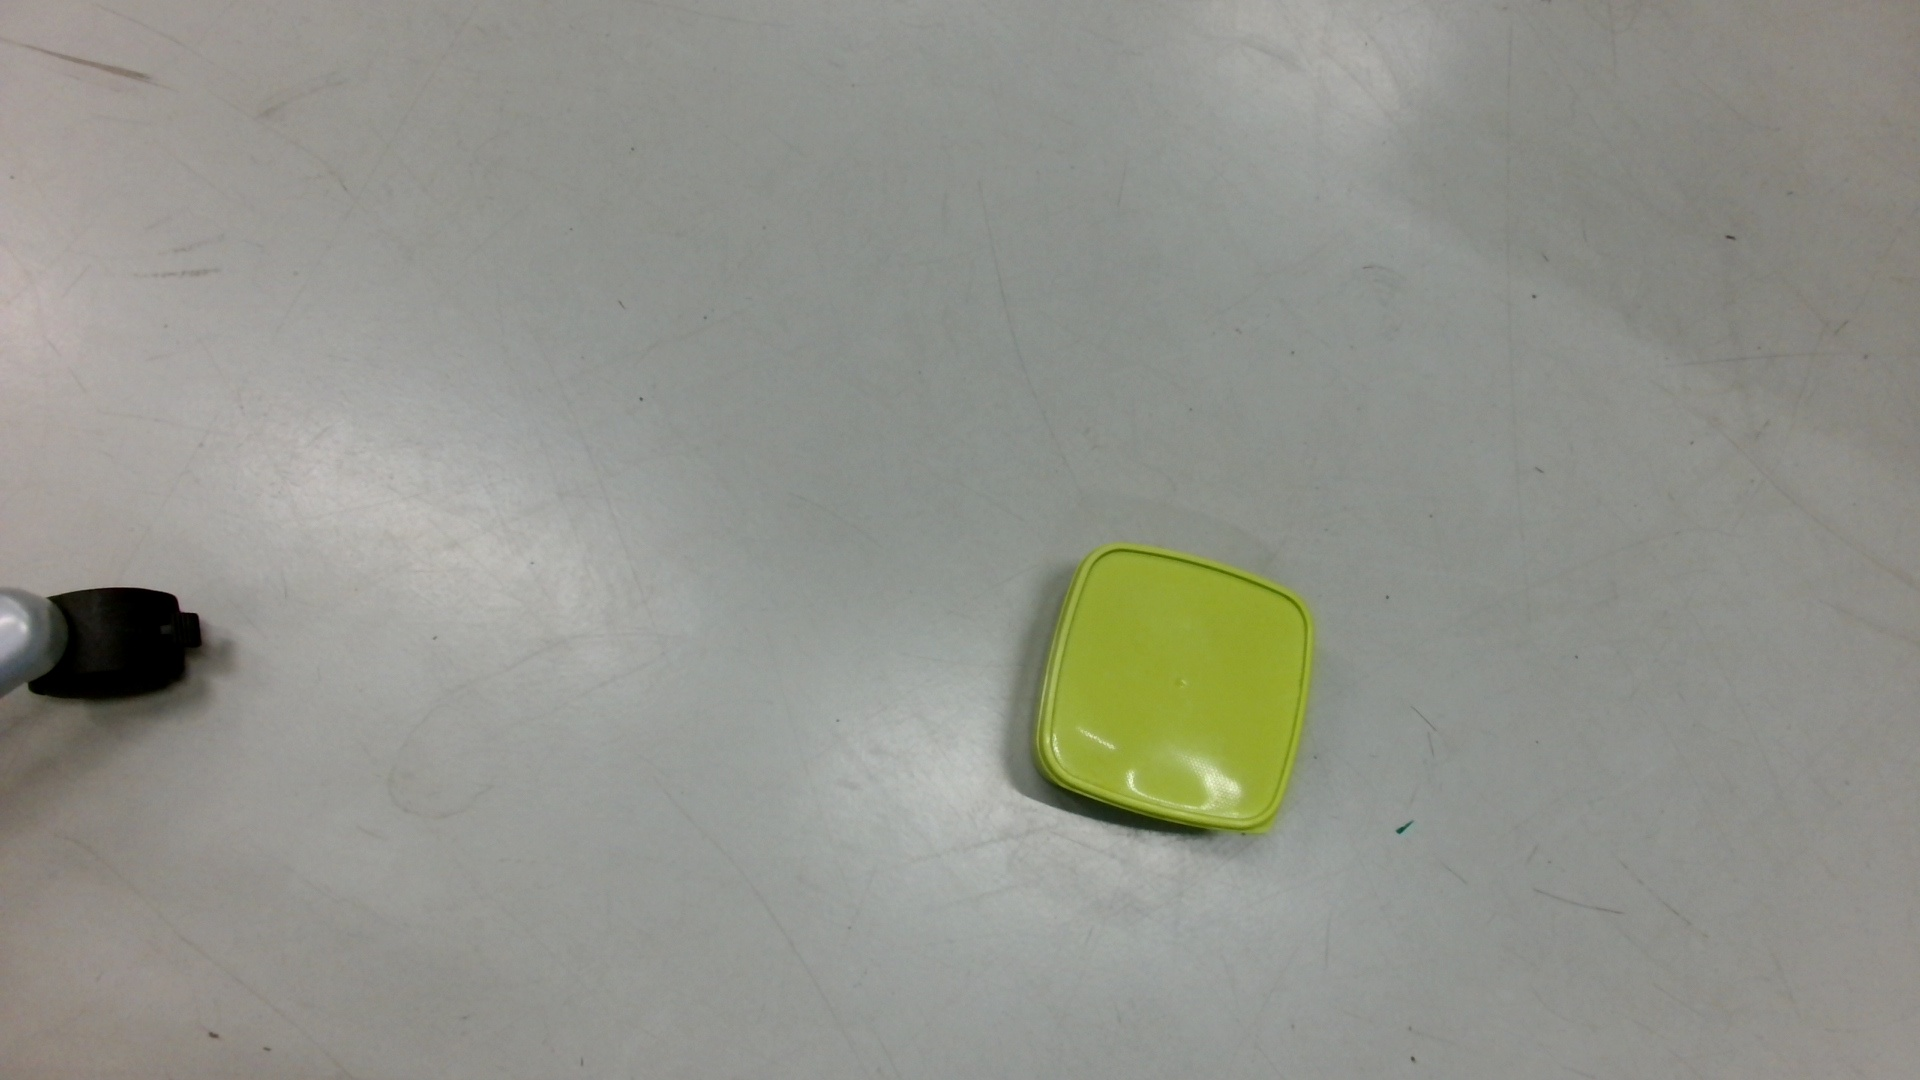Box: (1025, 538, 1319, 844)
